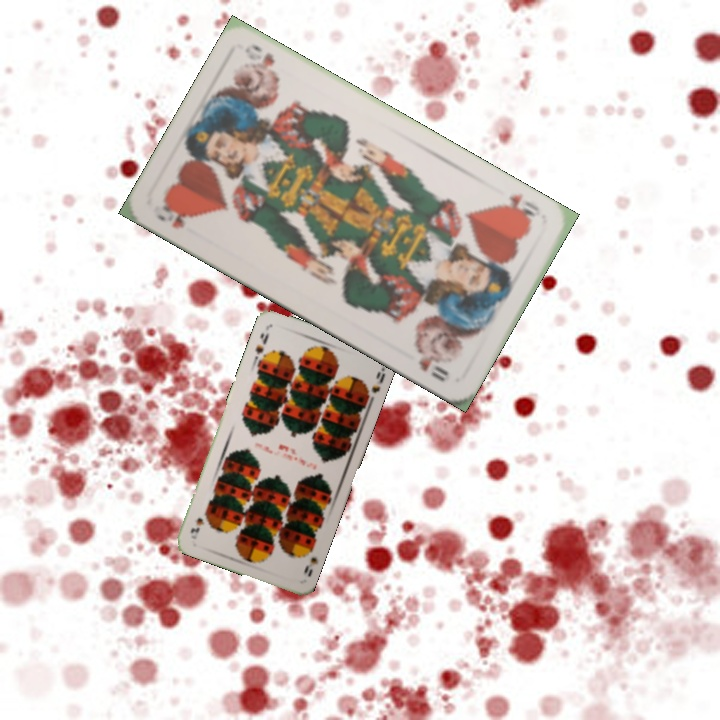HO: (494, 189, 543, 225), (152, 197, 196, 231)
S9: (300, 541, 320, 579), (251, 329, 272, 357)
